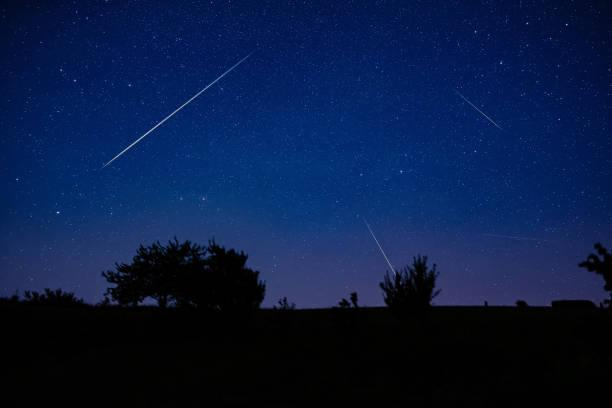meteor: (90, 155, 123, 179), (490, 119, 509, 139), (389, 263, 408, 283)
